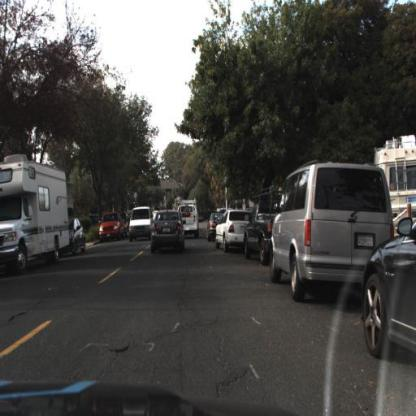car: (269, 160, 394, 304), (1, 154, 72, 274), (243, 188, 278, 262), (214, 206, 252, 252), (151, 209, 187, 251), (174, 195, 201, 249), (96, 212, 126, 246), (130, 206, 157, 242), (68, 215, 88, 257), (68, 215, 87, 257), (206, 211, 221, 242)
truck: (1, 158, 70, 267), (176, 203, 201, 239)
